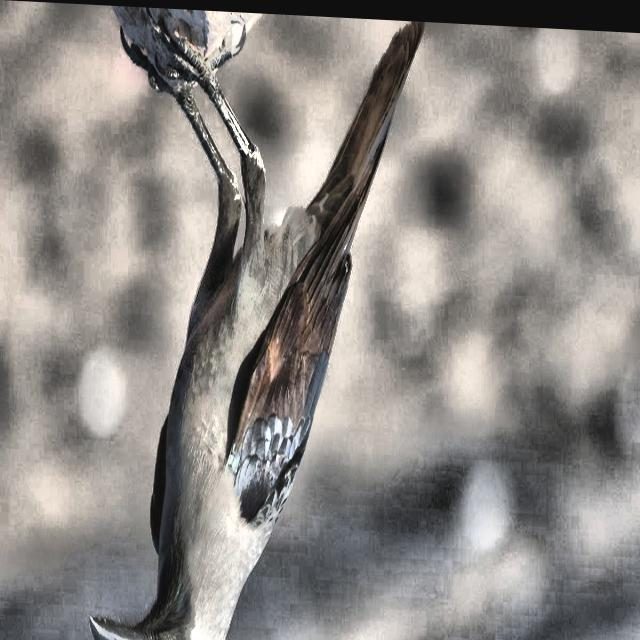crow: (16, 2, 432, 640)
